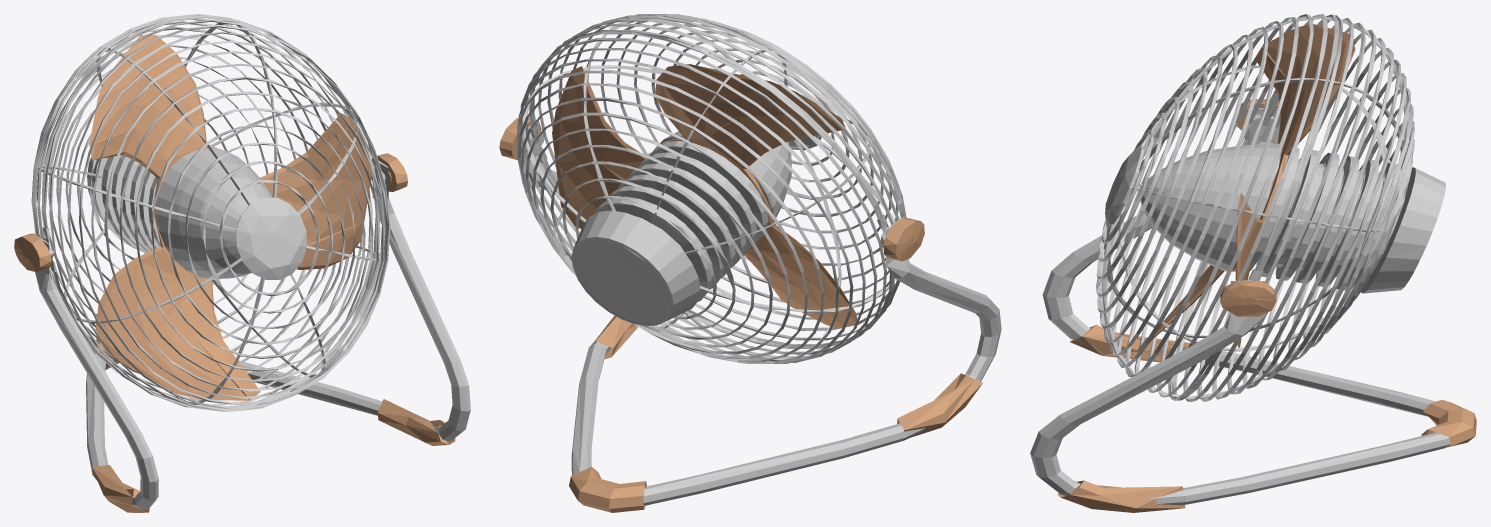
File: sh-bs0-rigged-fan.glb
The picture shows the model from 3 angles, left to right: view 1: azimuth 30°, elevation 25°; view 2: azimuth 150°, elevation 25°; view 3: azimuth 270°, elevation 25°; orthographic projection. The views are drawn at different scales.
Visible parts, largest first — view 1: 0clip2L_Cylinder.008, 0blades_Circle.002, 0stand2_Mesh.001, 0adjuster_Cylinder; view 2: 0clip2L_Cylinder.008, 0blades_Circle.002, 0stand2_Mesh.001, 0adjuster_Cylinder; view 3: 0clip2L_Cylinder.008, 0blades_Circle.002, 0stand2_Mesh.001, 0adjuster_Cylinder.
Boxes of the visible parts, bbox=[...] form: 0clip2L_Cylinder.008: bbox=[31, 14, 470, 509]; 0blades_Circle.002: bbox=[89, 35, 371, 400]; 0stand2_Mesh.001: bbox=[92, 339, 455, 512]; 0adjuster_Cylinder: bbox=[14, 153, 407, 272]; 0clip2L_Cylinder.008: bbox=[516, 14, 1001, 505]; 0blades_Circle.002: bbox=[552, 64, 858, 328]; 0stand2_Mesh.001: bbox=[569, 315, 982, 512]; 0adjuster_Cylinder: bbox=[499, 118, 924, 261]; 0clip2L_Cylinder.008: bbox=[1030, 14, 1450, 505]; 0blades_Circle.002: bbox=[1137, 24, 1355, 350]; 0stand2_Mesh.001: bbox=[1057, 324, 1476, 512]; 0adjuster_Cylinder: bbox=[1220, 99, 1280, 316].
Size of the model in its own units: 1 by 0.9986 by 0.9999.
